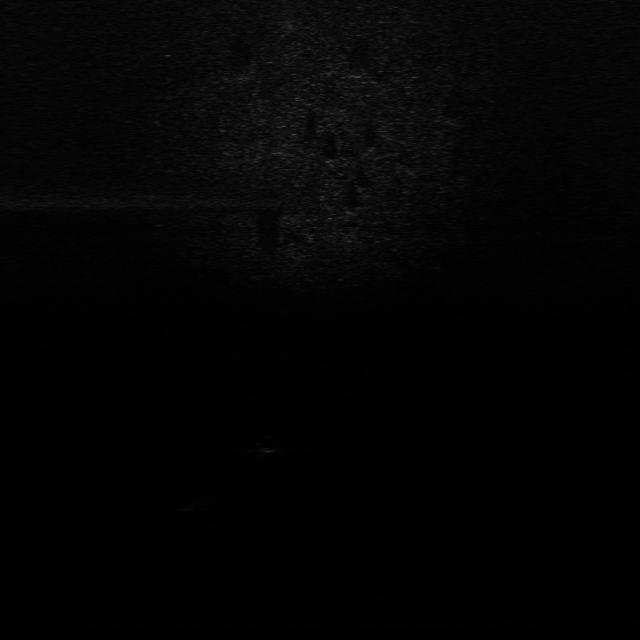ball: (256, 429, 286, 456)
square cage: (173, 491, 223, 515)
